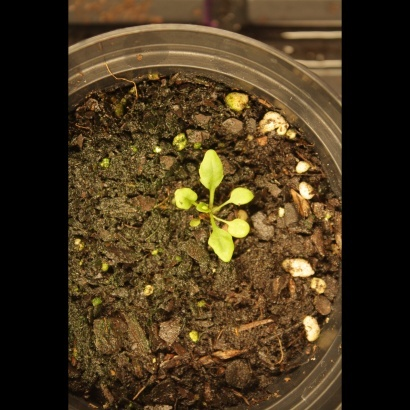leaf: (189, 141, 228, 190), (204, 227, 237, 266), (172, 186, 199, 214), (228, 184, 255, 209), (227, 217, 256, 240), (196, 200, 219, 223)
